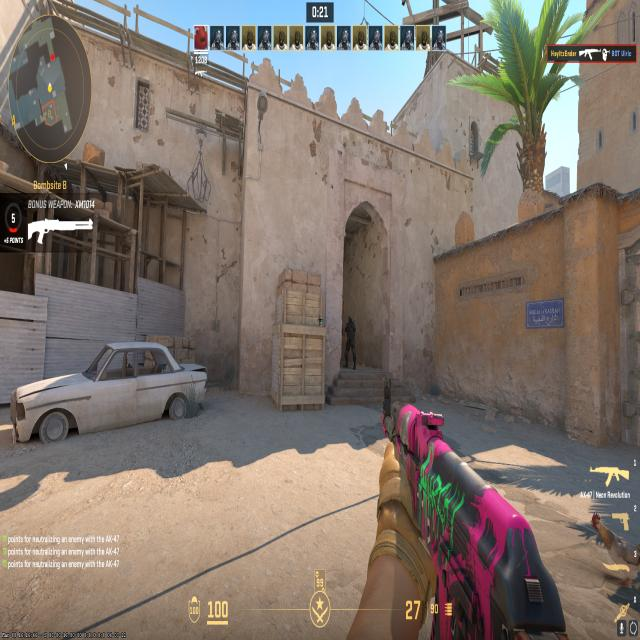ct: (340, 308, 359, 372)
